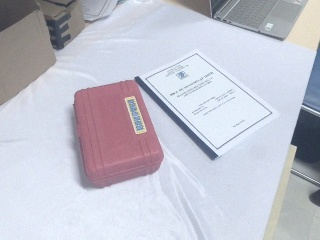box: (71, 77, 168, 191), (1, 1, 57, 112), (36, 1, 87, 51)
